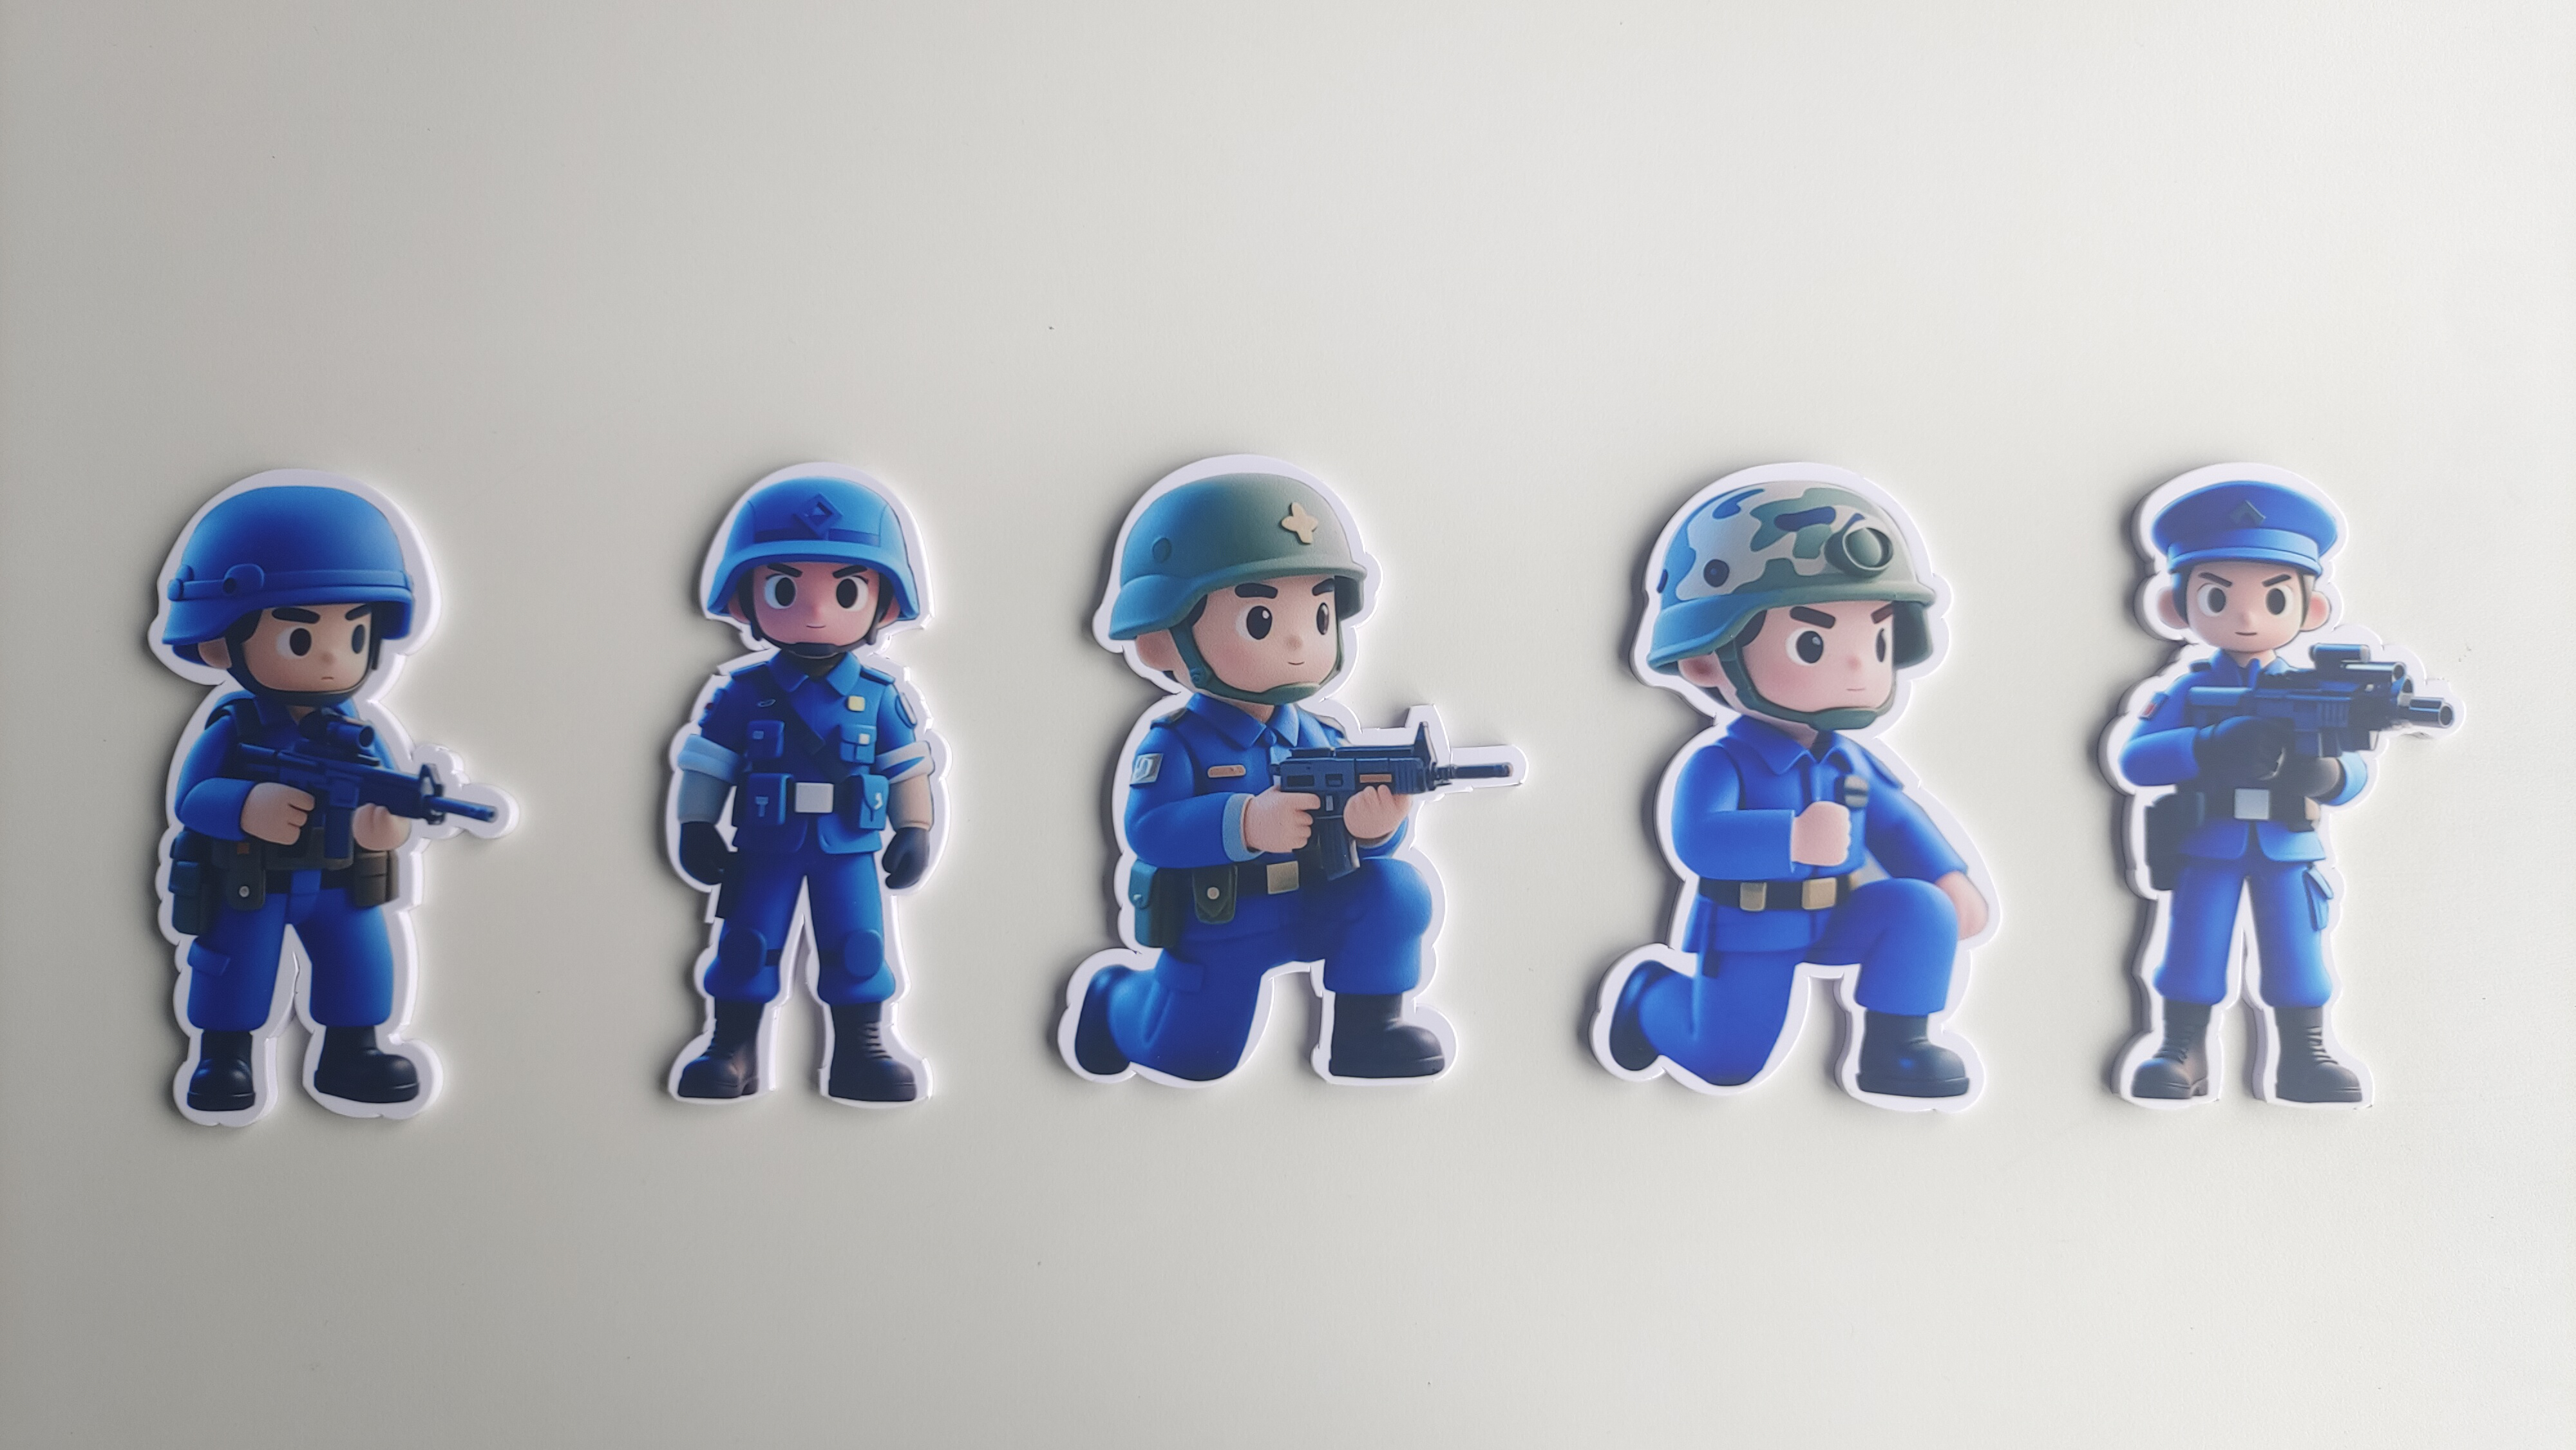enemy2: (1580, 725, 2003, 1130), (1051, 709, 1472, 1103), (633, 654, 957, 1116), (131, 706, 460, 1126), (2084, 644, 2374, 1116)
